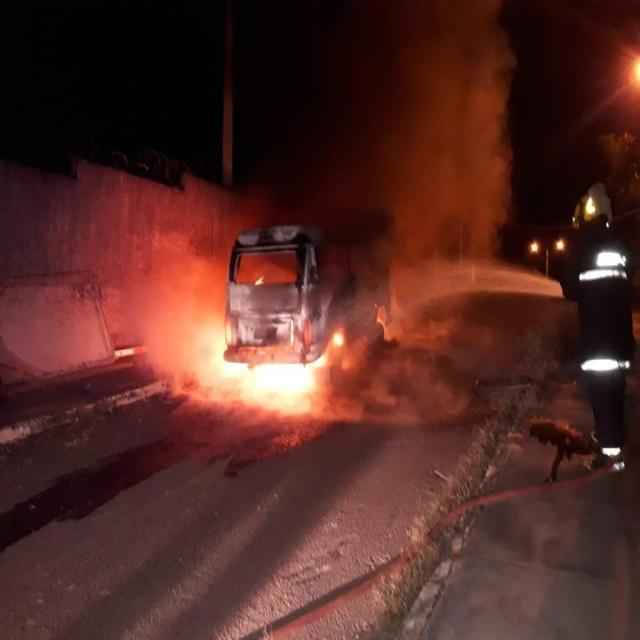Fire: (228, 345, 326, 395)
Smoke: (382, 1, 518, 318), (142, 244, 220, 384)
